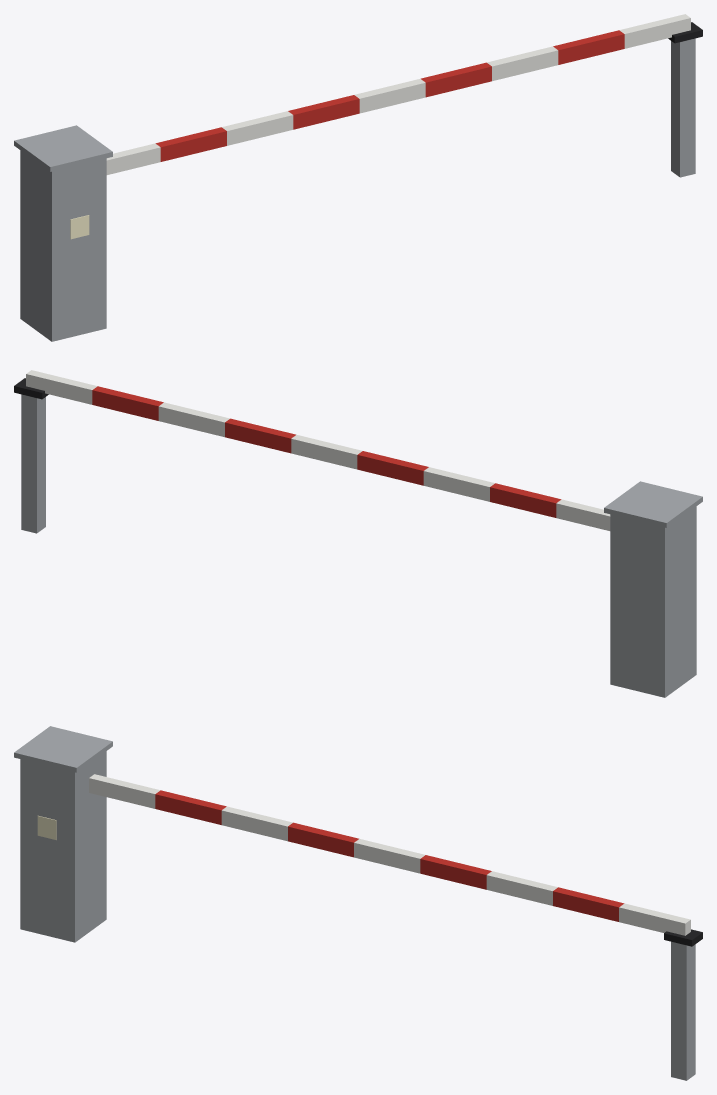
The picture shows the model from 3 angles, top to bottom: view 1: azimuth 30°, elevation 25°; view 2: azimuth 150°, elevation 25°; view 3: azimuth 330°, elevation 25°; orthographic projection.
Visible parts, largest first — view 1: automatic=true;gateType=barrier;height=1;leafThickness=0.05; (×3); view 2: automatic=true;gateType=barrier;height=1;leafThickness=0.05; (×3); view 3: automatic=true;gateType=barrier;height=1;leafThickness=0.05; (×3).
Boxes of the visible parts, <box> form: automatic=true;gateType=barrier;height=1;leafThickness=0.05; (×3): <box>14,14,695,341</box>; automatic=true;gateType=barrier;height=1;leafThickness=0.05; (×3): <box>21,370,702,697</box>; automatic=true;gateType=barrier;height=1;leafThickness=0.05; (×3): <box>14,726,695,1080</box>.
Size of the model in its own units: 4.24 by 0.4 by 1.08.
